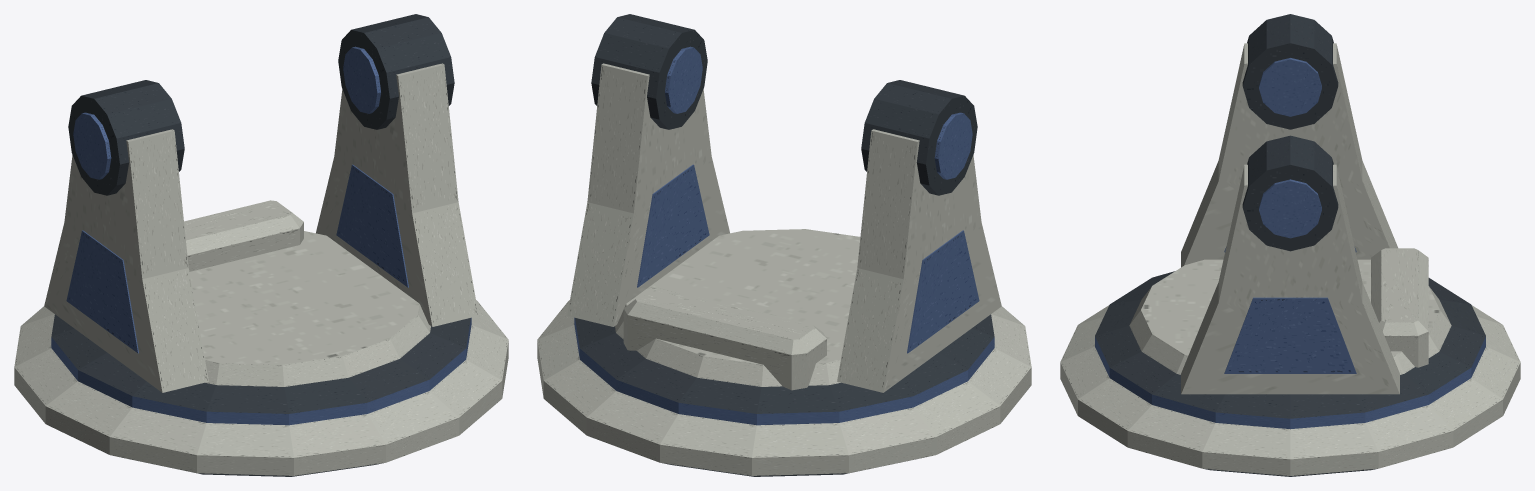
File: TelescopeCradle.fbx
3 renders of one model, left to right at view 1: azimuth 30°, elevation 25°; view 2: azimuth 150°, elevation 25°; view 3: azimuth 270°, elevation 25°, orthographic. The views are drawn at different scales.
Parts seen in each view (by area): view 1: TelescopeCradle; view 2: TelescopeCradle; view 3: TelescopeCradle.
Boxes of the visible parts, box(x1,y1,x2,y2) form: TelescopeCradle: box(14, 14, 508, 476); TelescopeCradle: box(537, 14, 1031, 476); TelescopeCradle: box(1060, 14, 1520, 476).
Bounding box in the file's own units: 800 × 573 × 800.
